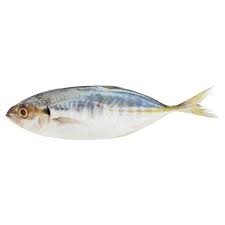Ikan Selar: (5, 85, 212, 142)
